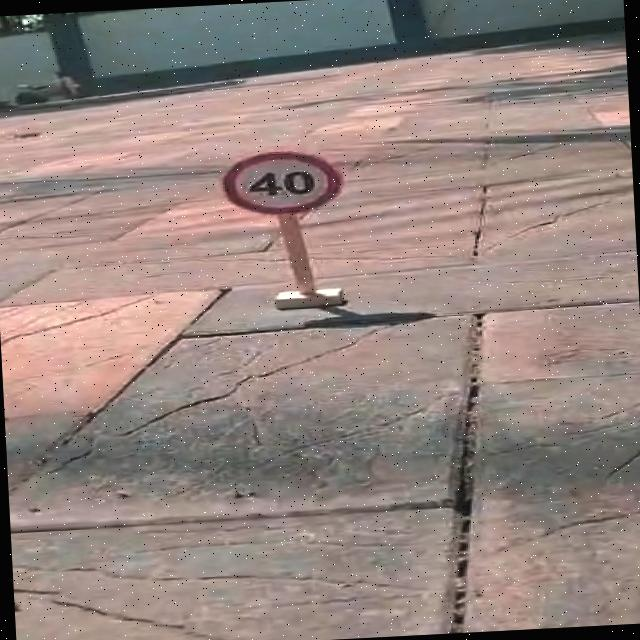Speed40: (218, 144, 350, 222)
